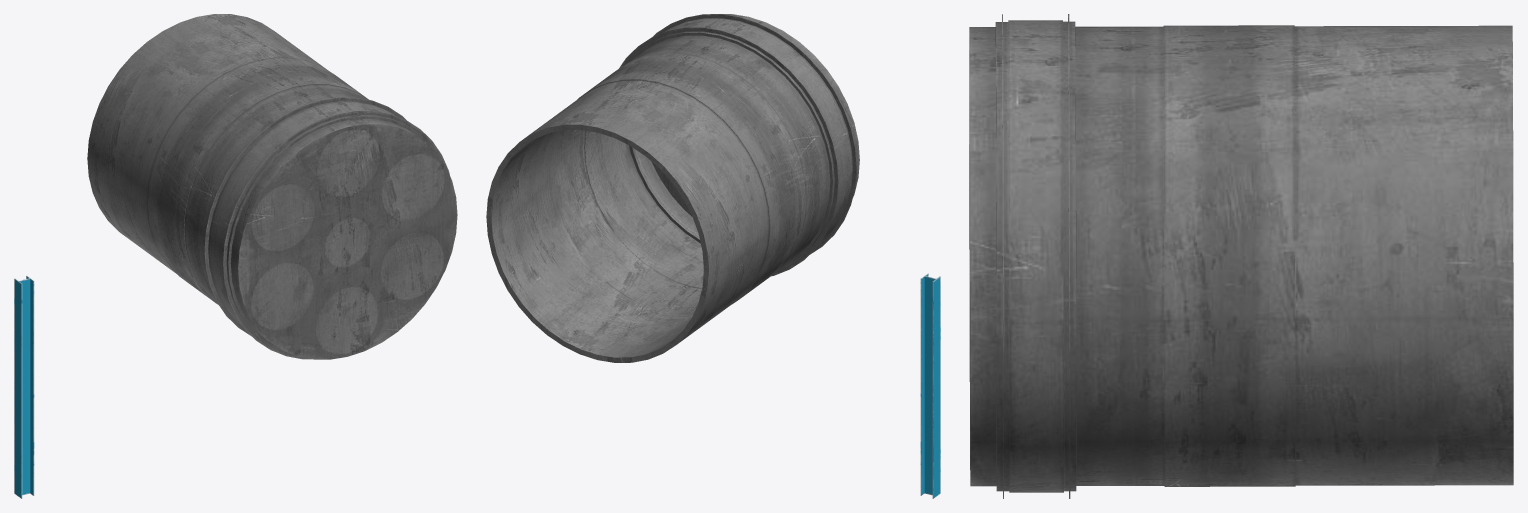
File: rotatubogltf.gltf
3 renders of one model, left to right at view 1: azimuth 30°, elevation 25°; view 2: azimuth 150°, elevation 25°; view 3: azimuth 270°, elevation 25°, orthographic. The views are drawn at different scales.
Parts seen in each view (by area): view 1: rotatubo.001, yunque.001; view 2: rotatubo.001, yunque.001; view 3: rotatubo.001.
Part boxes in pixels (<box>): rotatubo.001: <box>87,14,457,359</box>; yunque.001: <box>14,275,34,498</box>; rotatubo.001: <box>486,14,859,362</box>; yunque.001: <box>920,273,940,498</box>; rotatubo.001: <box>969,14,1513,498</box>.
Bounding box in the file's own units: 596 × 557 × 415.
Materials: 2 (2 with a texture image).
